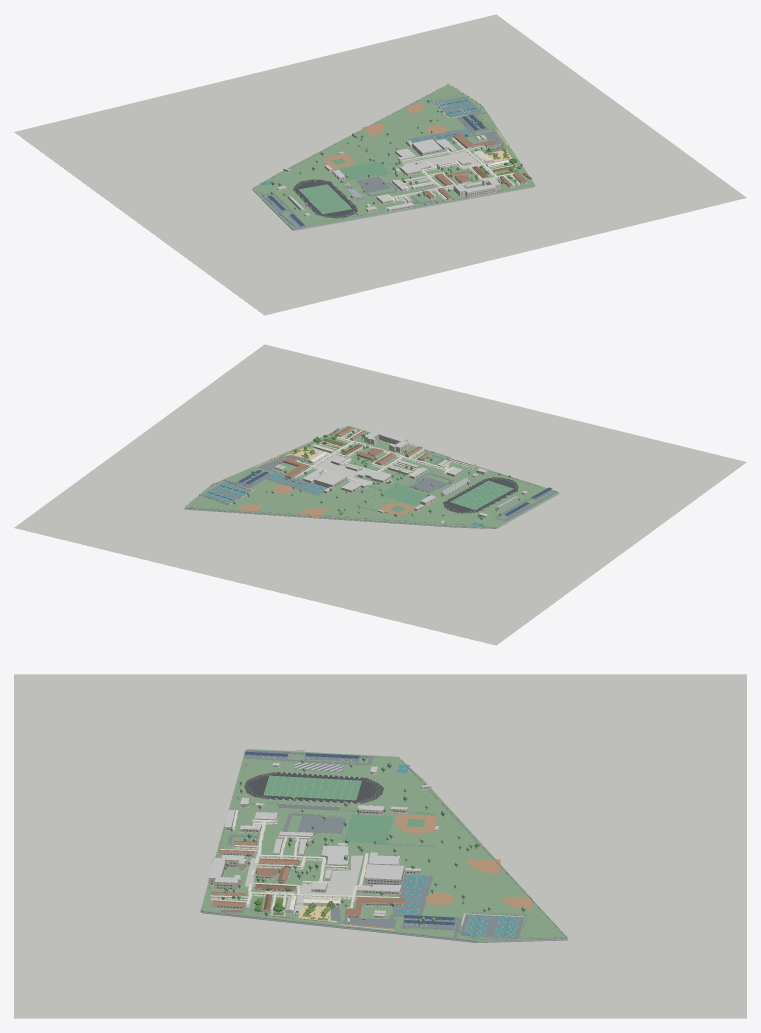
Rendered from arroyo-entrance-styled-v2.glb.
3 views of the same model, one above another, from view 1: azimuth 30°, elevation 25°; view 2: azimuth 150°, elevation 25°; view 3: azimuth 270°, elevation 25° (orthographic). The views are drawn at different scales.
Visible parts, largest first — view 1: Extended viewing ground, Campus lawn, way-1250886424, way-1250886425, way-1250886422; view 2: Extended viewing ground, Campus lawn, way-1250886424, way-1250886425, way-1250886422, Campus plinth.009; view 3: Extended viewing ground, Campus lawn, way-1250886424, way-1250886425, way-1250886422, gym-quad, way-1510898022, hard-court-apron, Campus plinth.005, West parking, way-1250886423.
Part boxes in pixels (bbox=[...]): Extended viewing ground: bbox=[14, 14, 746, 315]; Campus lawn: bbox=[252, 84, 534, 229]; way-1250886424: bbox=[298, 184, 351, 214]; way-1250886425: bbox=[293, 179, 357, 218]; way-1250886422: bbox=[338, 162, 389, 180]; Extended viewing ground: bbox=[14, 344, 746, 645]; Campus lawn: bbox=[185, 426, 558, 527]; way-1250886424: bbox=[450, 480, 513, 509]; way-1250886425: bbox=[443, 477, 518, 513]; way-1250886422: bbox=[379, 485, 427, 505]; Campus plinth.009: bbox=[218, 510, 457, 527]; Extended viewing ground: bbox=[14, 674, 746, 1018]; Campus lawn: bbox=[201, 749, 567, 940]; way-1250886424: bbox=[264, 775, 361, 800]; way-1250886425: bbox=[244, 772, 383, 803]; way-1250886422: bbox=[343, 814, 393, 843]; gym-quad: bbox=[300, 855, 363, 897]; way-1510898022: bbox=[460, 914, 524, 938]; hard-court-apron: bbox=[393, 874, 433, 915]; Campus plinth.005: bbox=[202, 911, 457, 940]; West parking: bbox=[298, 816, 345, 833]; way-1250886423: bbox=[395, 814, 437, 833].
Size of the model in its own units: 1000 by 14.73 by 900.
